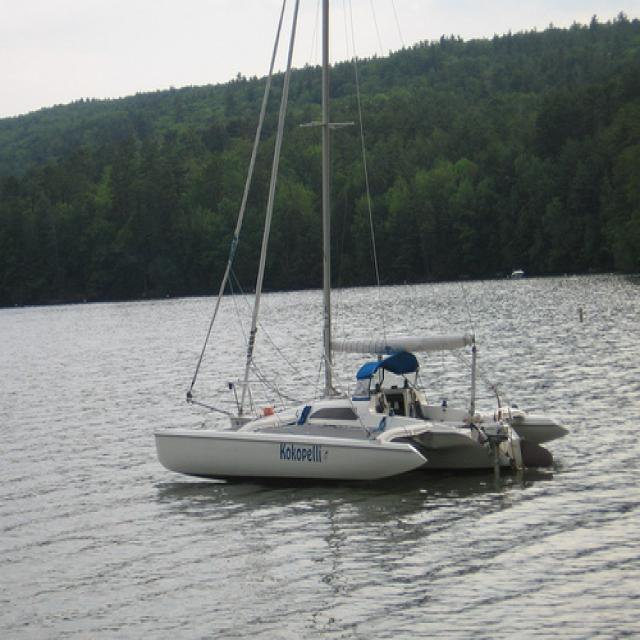Ship: (130, 1, 564, 493)
